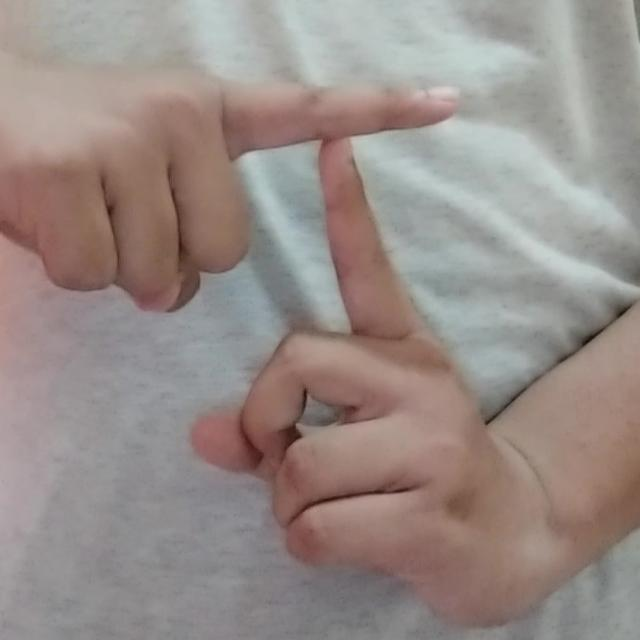T: (43, 49, 580, 628)
